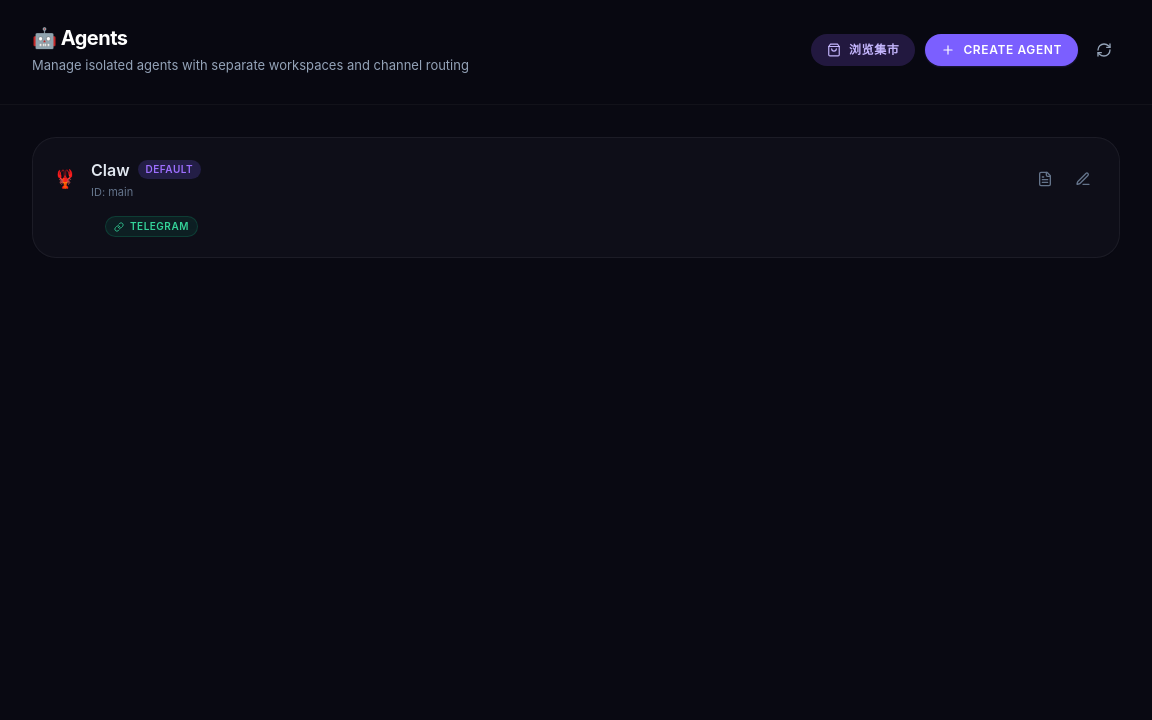
Test: Agents page › opens wizard after clicking Create Agent
Step 1. Click the button "Create Agent" → (1002, 50), box top-left (925, 34), bottom-right (1078, 66)
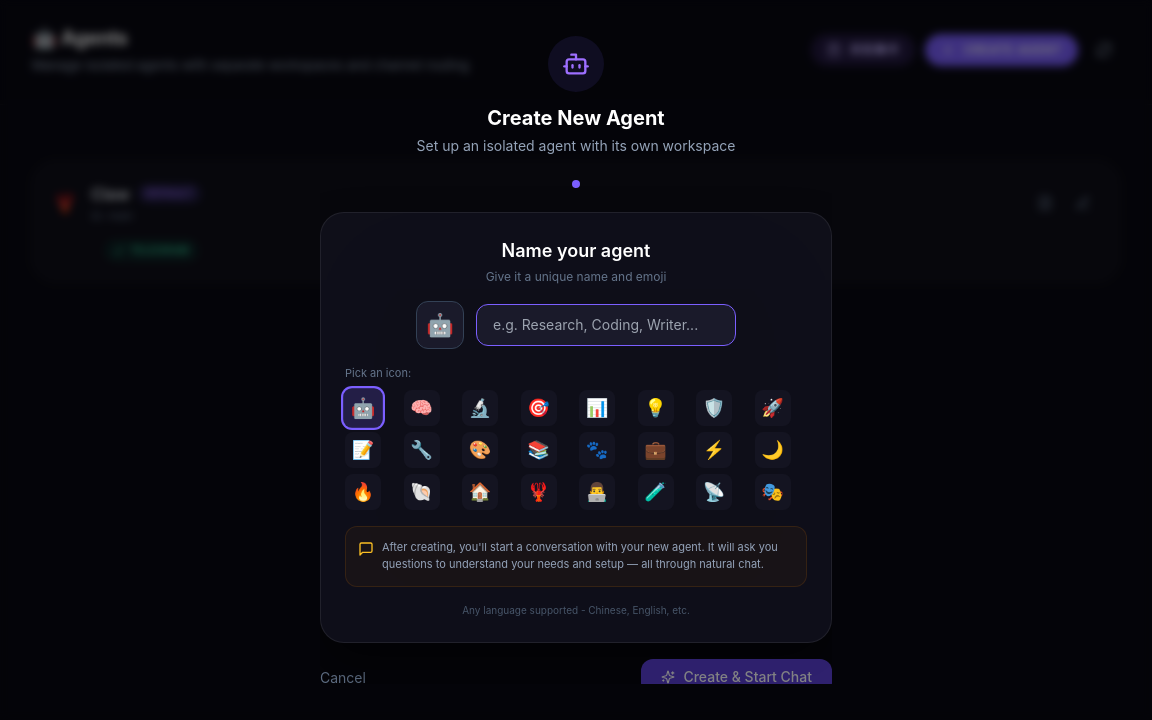
Expected: the heading "Name your agent" is shown, top-left (502, 240), bottom-right (650, 261)
